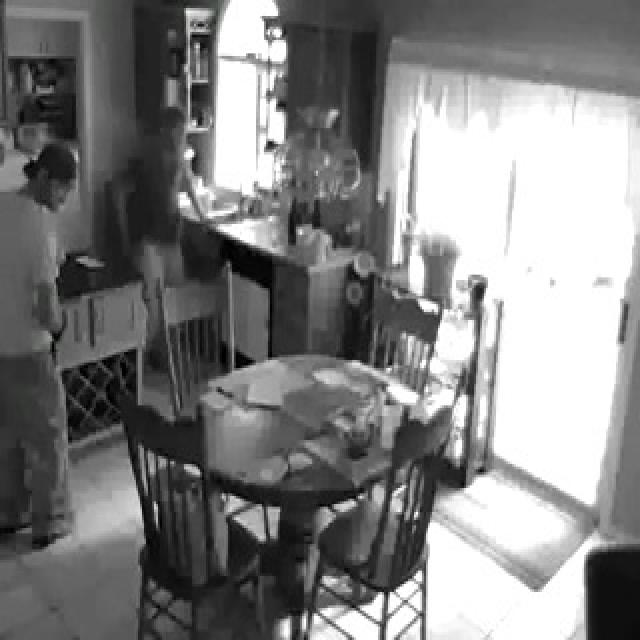thief: (23, 127, 115, 259), (144, 97, 206, 174)
